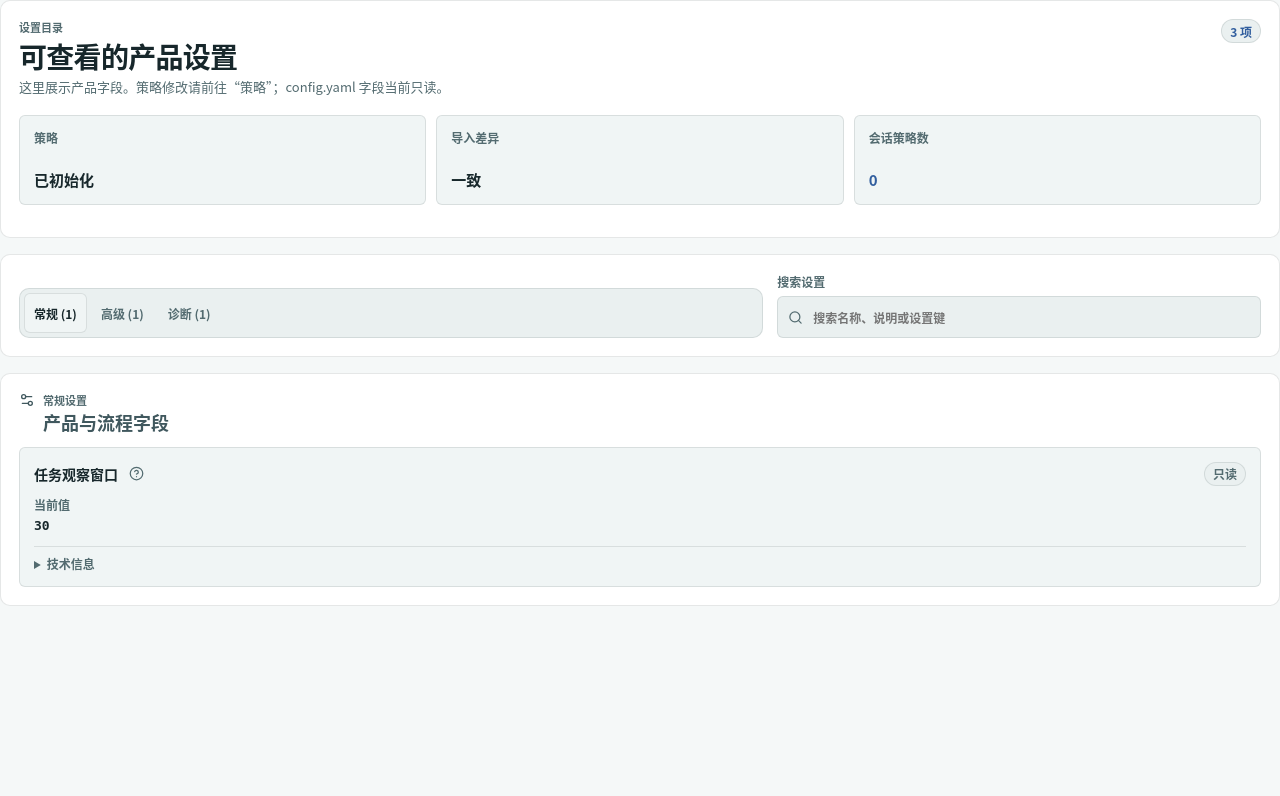
Test: SettingsScreen › shows one group, searches localized catalog copy, and reveals technical details on demand
This screenshot has width=1280, height=796.
Check: the heading "任务观察窗口" is shown, box [34,464,118,484]
Check: the text "Codex 模型" is not shown
Type "Codex" into the search field labelled "搜索设置" at {"x": 1031, "y": 317}, box [811,308,1250,327]
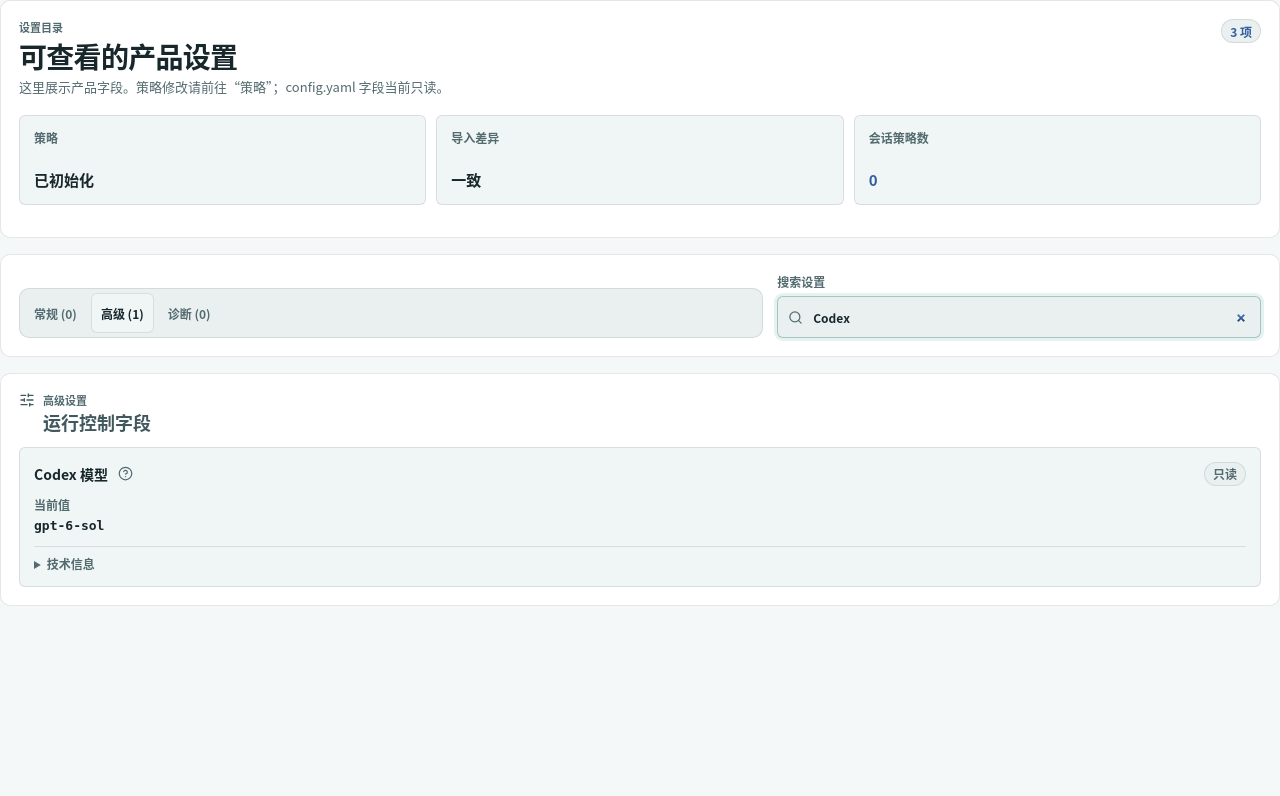
Check: the heading "Codex 模型" is shown, box [34,464,108,484]
Click the heading "技术信息" at {"x": 71, "y": 563}, box [47,554,95,572]
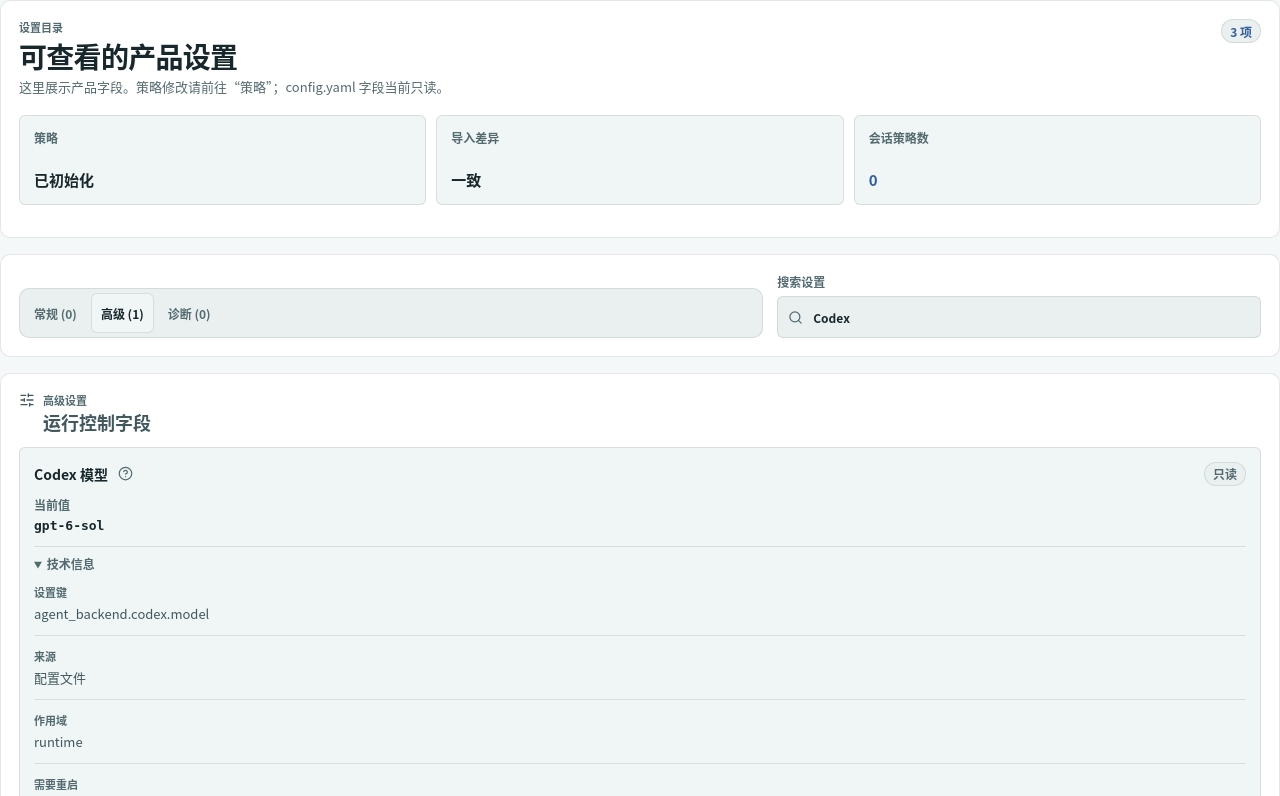
Check: the text "agent_backend.codex.model" is shown, box [34,604,209,622]
